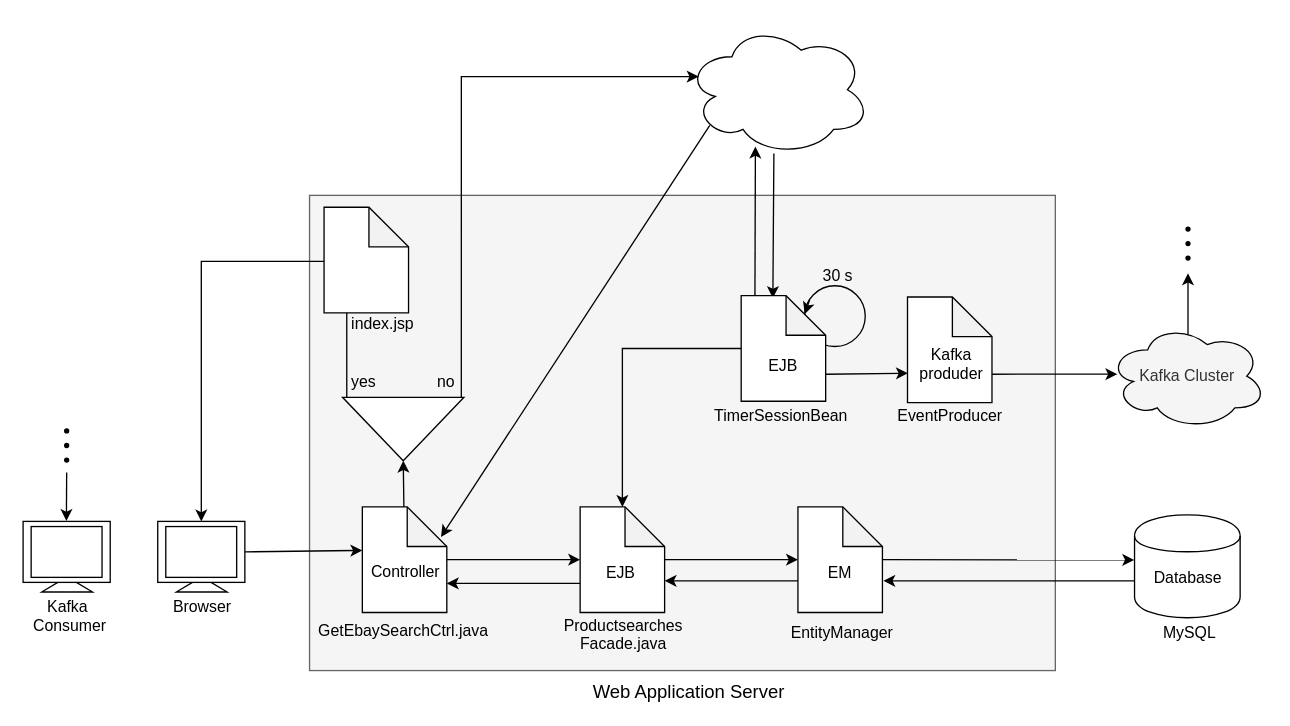
The diagram is 1290 pixels wide and 726 high, and some of its shapes have lost their labels. Each missing label, with the centre of its shape:
"Ebay REST API" belongs at (777,89).
"In cache?" belongs at (402,428).
"JSP" belongs at (366,259).
